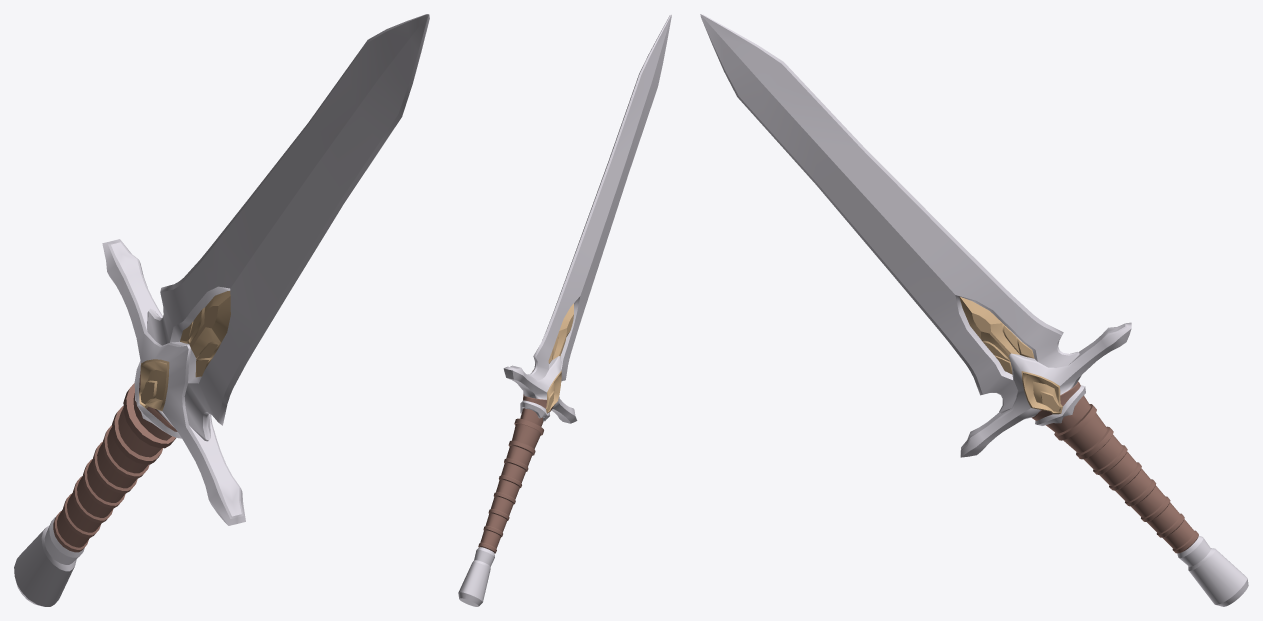
Rendered from Sword.fbx.
3 views of the same model, side by side, from view 1: azimuth 30°, elevation 25°; view 2: azimuth 150°, elevation 25°; view 3: azimuth 270°, elevation 25° (orthographic). The views are drawn at different scales.
Visible parts, largest first — view 1: 0000_GRN_weapon; view 2: 0000_GRN_weapon; view 3: 0000_GRN_weapon.
Boxes of the visible parts, <box> form: 0000_GRN_weapon: <box>14,14,429,606</box>; 0000_GRN_weapon: <box>458,14,671,606</box>; 0000_GRN_weapon: <box>700,14,1248,606</box>.
Size of the model in its own units: 4 by 66.13 by 55.52.
Materials: 1 (1 with a texture image).
